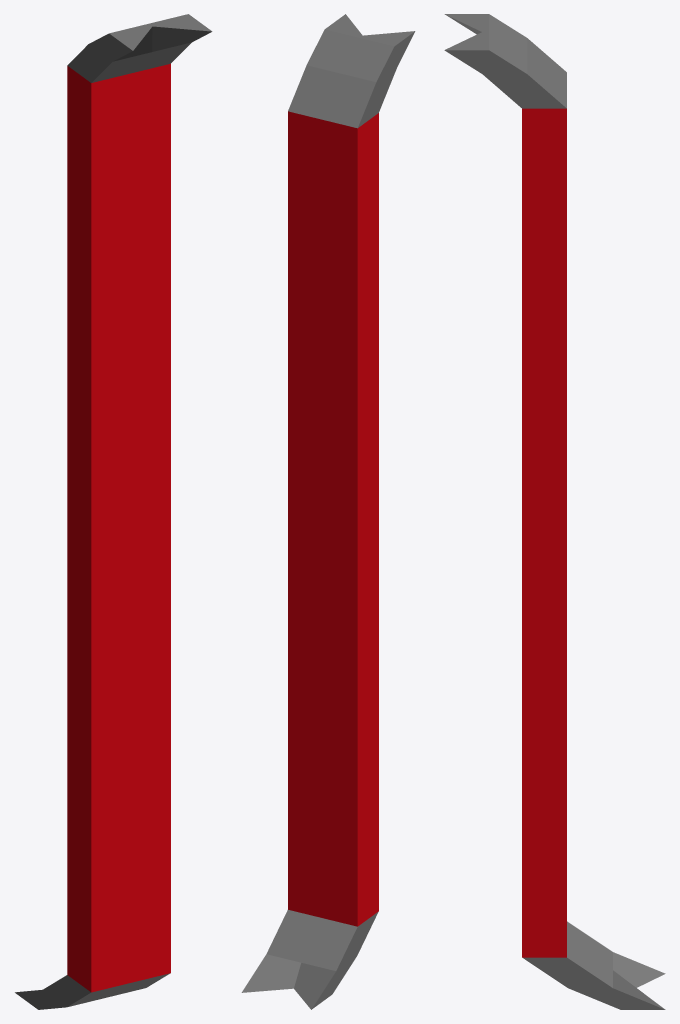
Rendered from Crowbar.fbx.
3 renders of one model, left to right at view 1: azimuth 30°, elevation 25°; view 2: azimuth 150°, elevation 25°; view 3: azimuth 270°, elevation 25°, orthographic. The views are drawn at different scales.
Visible parts, largest first — view 1: Cube, Cube.001; view 2: Cube, Cube.001; view 3: Cube, Cube.001.
Boxes of the visible parts, x1,y1,x2,y2 form: Cube: [67, 63, 170, 992]; Cube.001: [15, 14, 212, 1009]; Cube: [288, 111, 378, 926]; Cube.001: [241, 14, 415, 1009]; Cube: [522, 108, 566, 957]; Cube.001: [444, 14, 665, 1009].
Size of the model in its own units: 97.64 by 1206 by 252.
